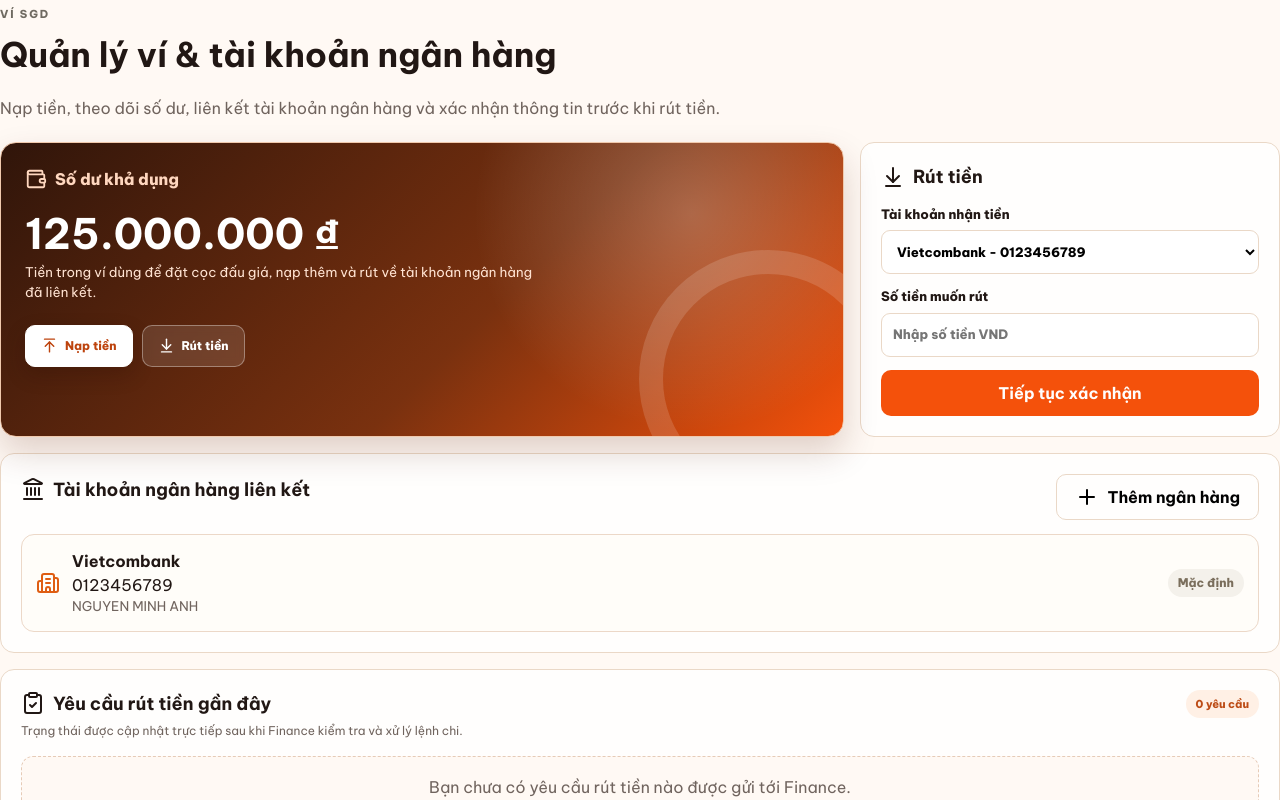
Test: customer payout to Finance UI flow › tops up the wallet directly from the balance card
Click the button "Nạp tiền" at (79,346), box [25,325,133,367]
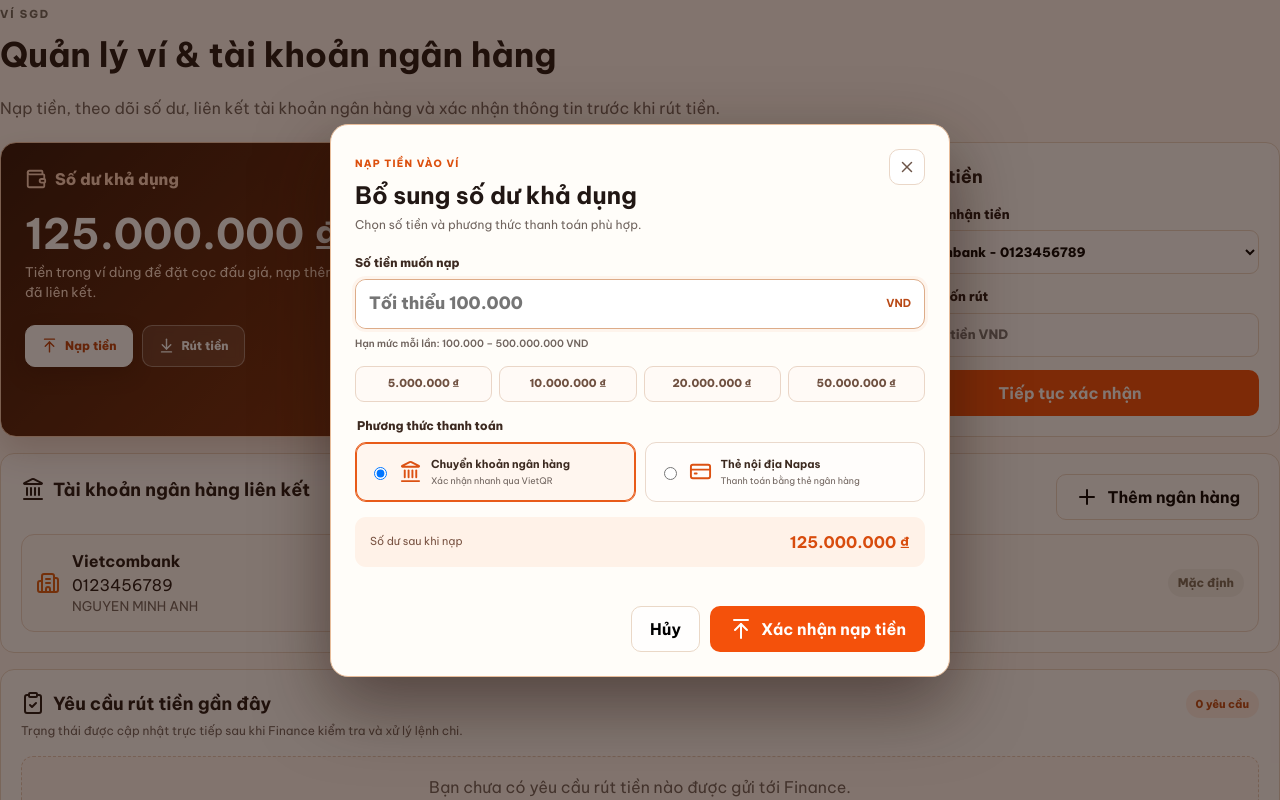
Expected: the dialog "Bổ sung số dư khả dụng" is shown
Type "15000000" into the field labelled "Số tiền muốn nạp" at (615,304), box [356,280,873,328]
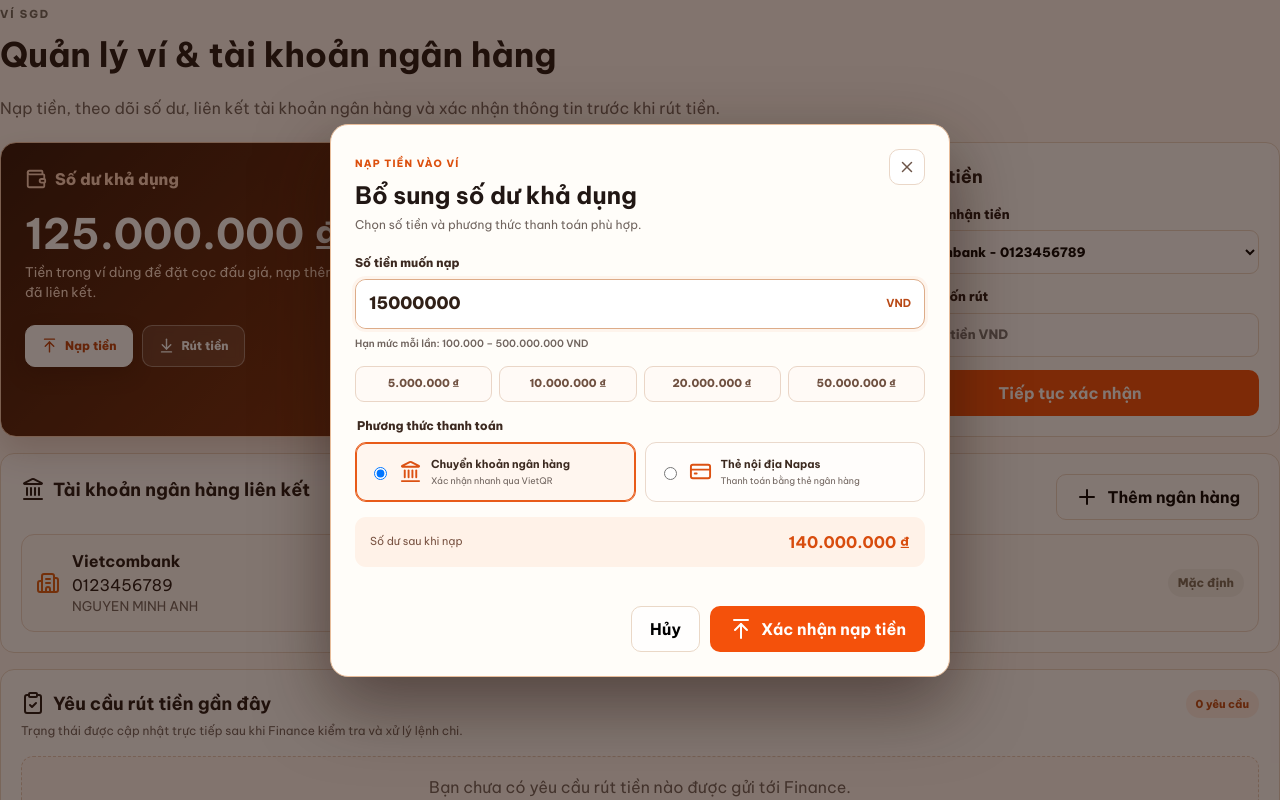
Click the button "Xác nhận nạp tiền" at (818,628), box [710,606,925,652]
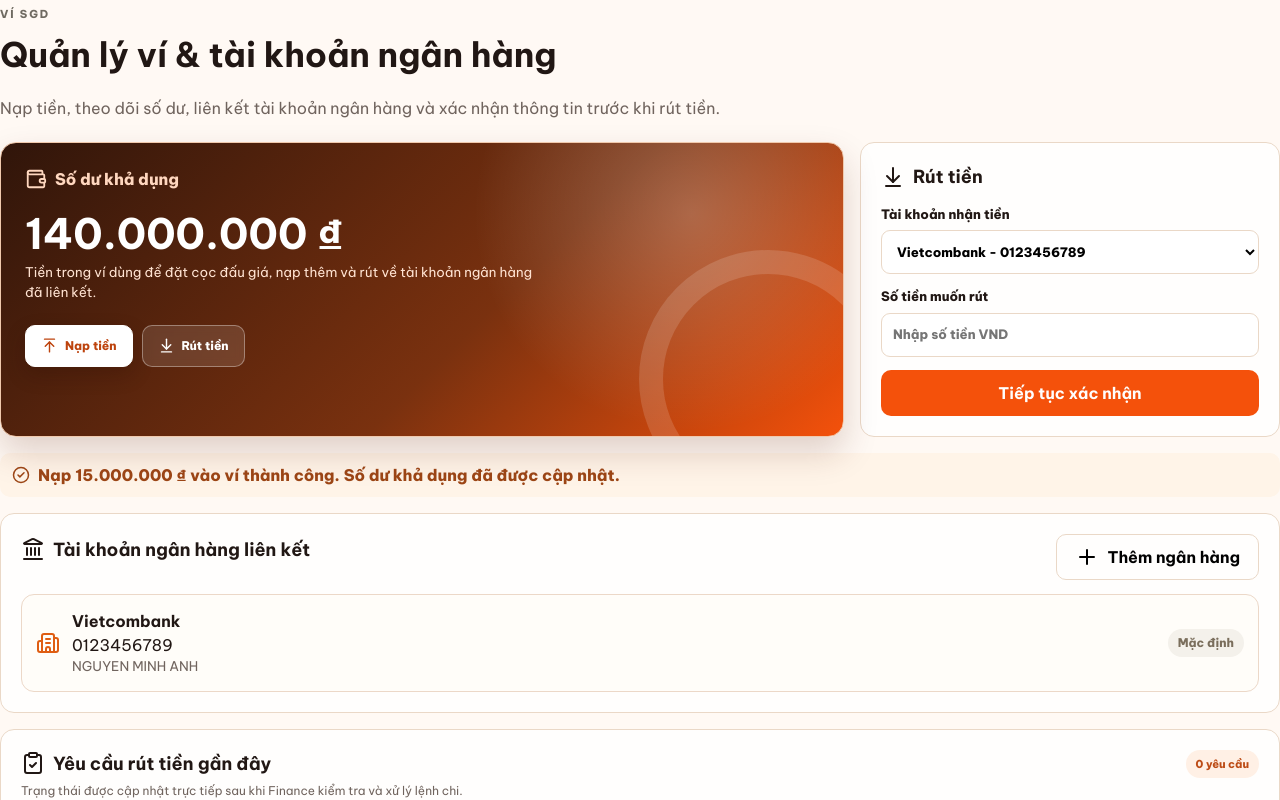
Expected: the message shows "Nạp 15.000.000 ₫ vào ví thành công", [38,465,620,485]
Expected: the heading "Bổ sung số dư khả dụng" is gone
